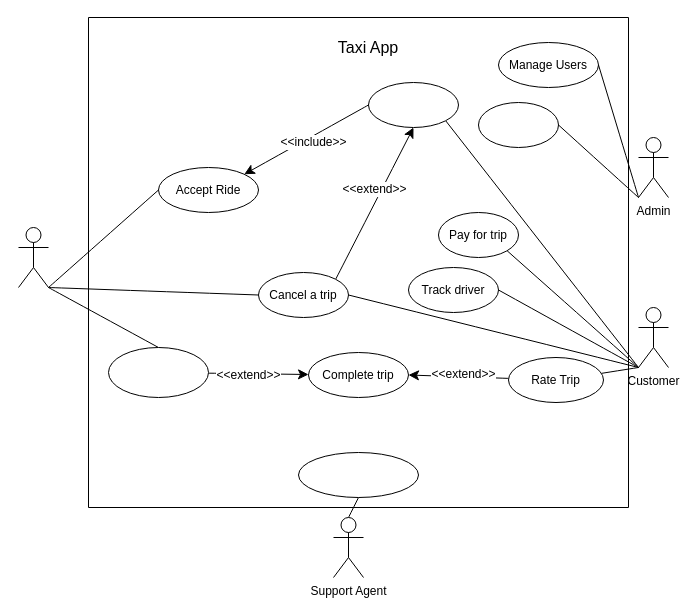
Some shapes in this 697 by 616 pixel diagram are drawn without their labels. Here are the shapes that lost their labels. From the top down, the box of each, then its label:
(368, 82, 458, 128): Order a taxi
(478, 102, 558, 148): View Reports
(18, 226, 48, 288): Driver
(108, 346, 208, 398): Rate Customer
(298, 452, 418, 498): Manage a Feedback
